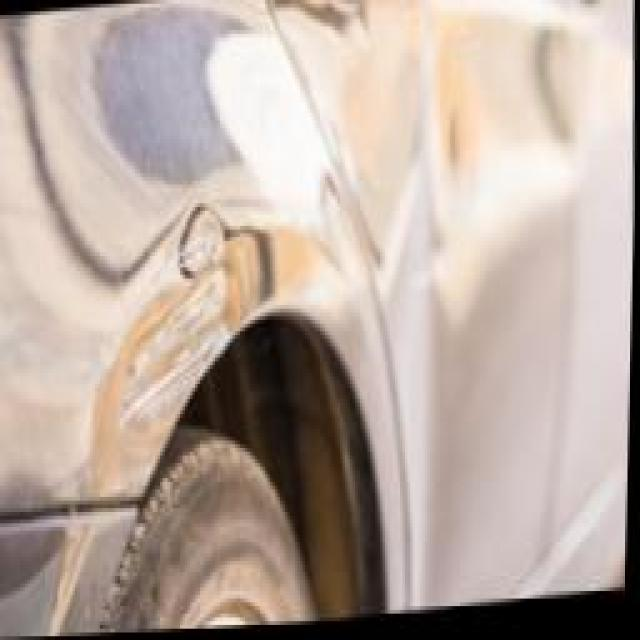Fender: (58, 166, 349, 528)
